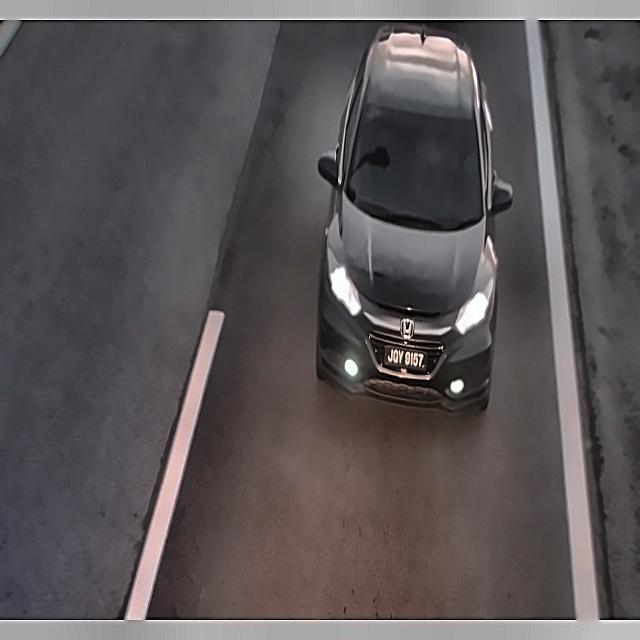car: (384, 343, 432, 377)
